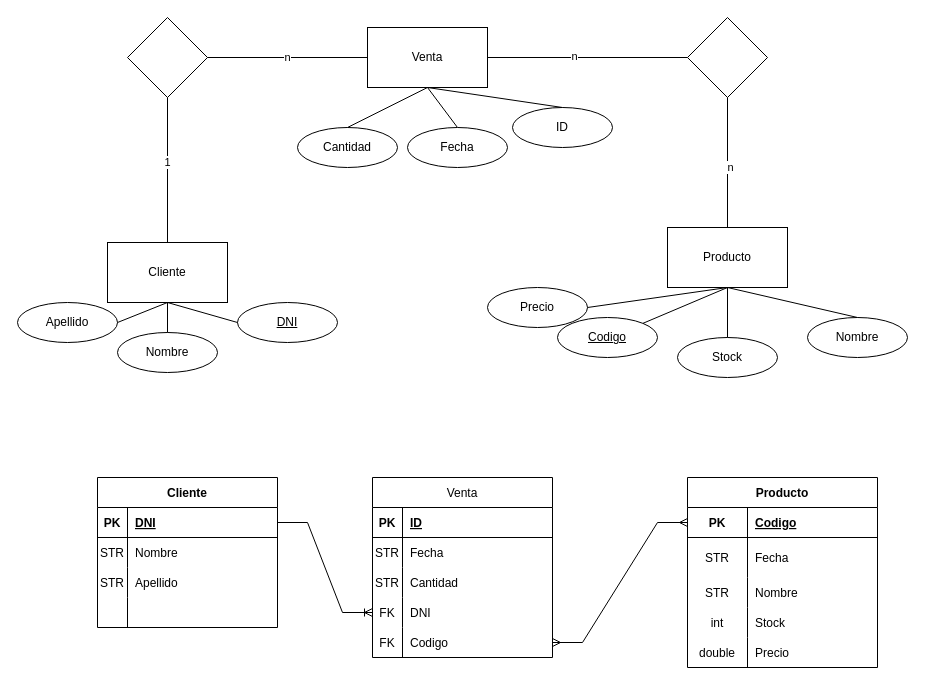
Image size: 925x685. Some labels were removed from this diagram. Here are the shapes that lost their labels. From the top down, the centre of each, then its label:
At point (167, 57): "Solicita".
At point (727, 57): "Tiene".
